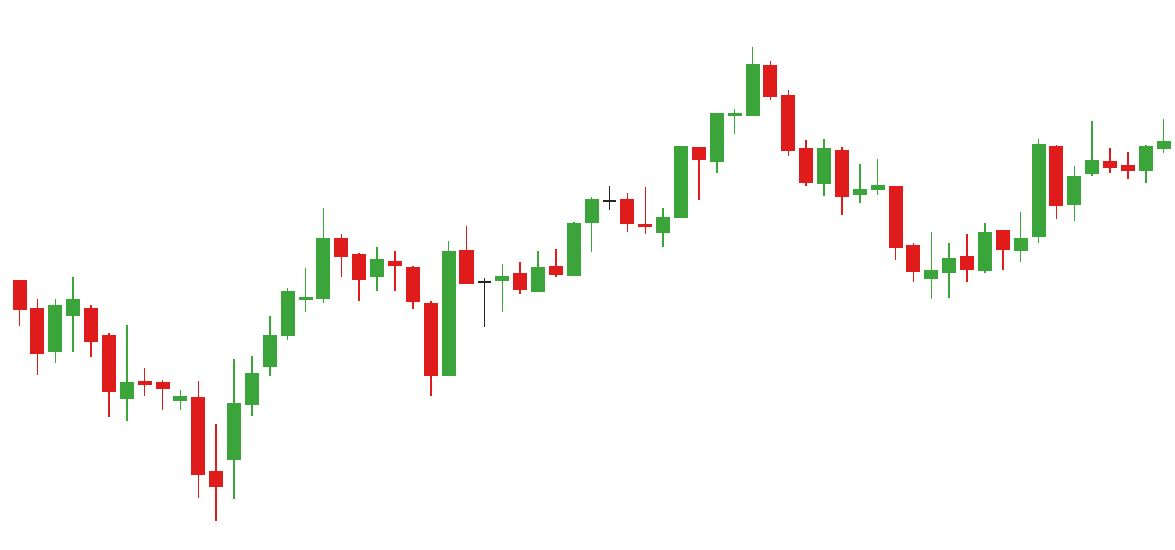buy: (96, 340, 245, 528)
